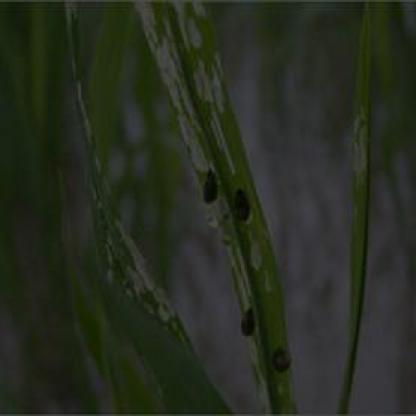rice-bug: (230, 186, 257, 222), (239, 300, 262, 338), (270, 342, 297, 372), (200, 167, 221, 200)
